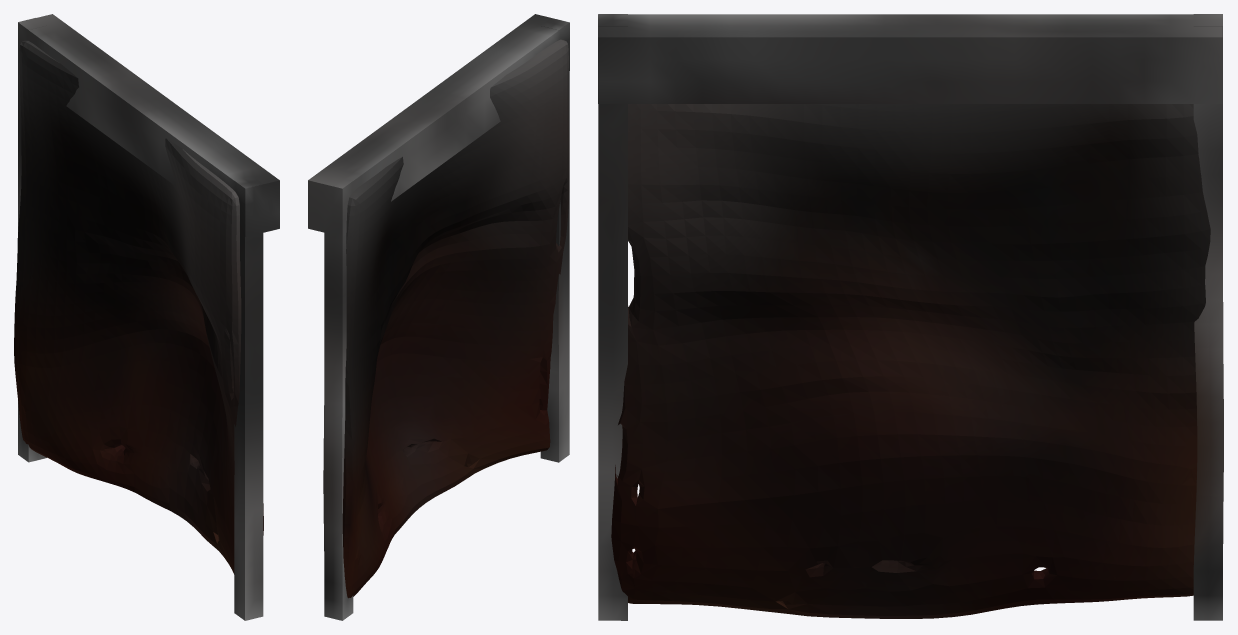
The model's file is Porte bombée.fbx.
3 renders of one model, left to right at view 1: azimuth 30°, elevation 25°; view 2: azimuth 150°, elevation 25°; view 3: azimuth 270°, elevation 25°, orthographic. The views are drawn at different scales.
Visible parts, largest first — view 1: Porte 5, Porte 4, Porte 3, Porte 2; view 2: Porte 5, Porte 4, Porte 2, Porte 3; view 3: Porte 5, Porte 4, Porte 3, Porte 2.
Boxes of the visible parts, x1,y1,x2,y2 form: Porte 5: (14, 40, 263, 574); Porte 4: (18, 14, 279, 236); Porte 3: (234, 176, 263, 620); Porte 2: (18, 18, 46, 462); Porte 5: (342, 39, 569, 598); Porte 4: (308, 14, 569, 236); Porte 2: (323, 176, 353, 620); Porte 3: (540, 18, 569, 462); Porte 5: (611, 104, 1210, 618); Porte 4: (598, 14, 1222, 103); Porte 3: (598, 14, 627, 620); Porte 2: (1193, 14, 1223, 620).
Size of the model in its own units: 0.9117 by 3.58 by 3.42.
